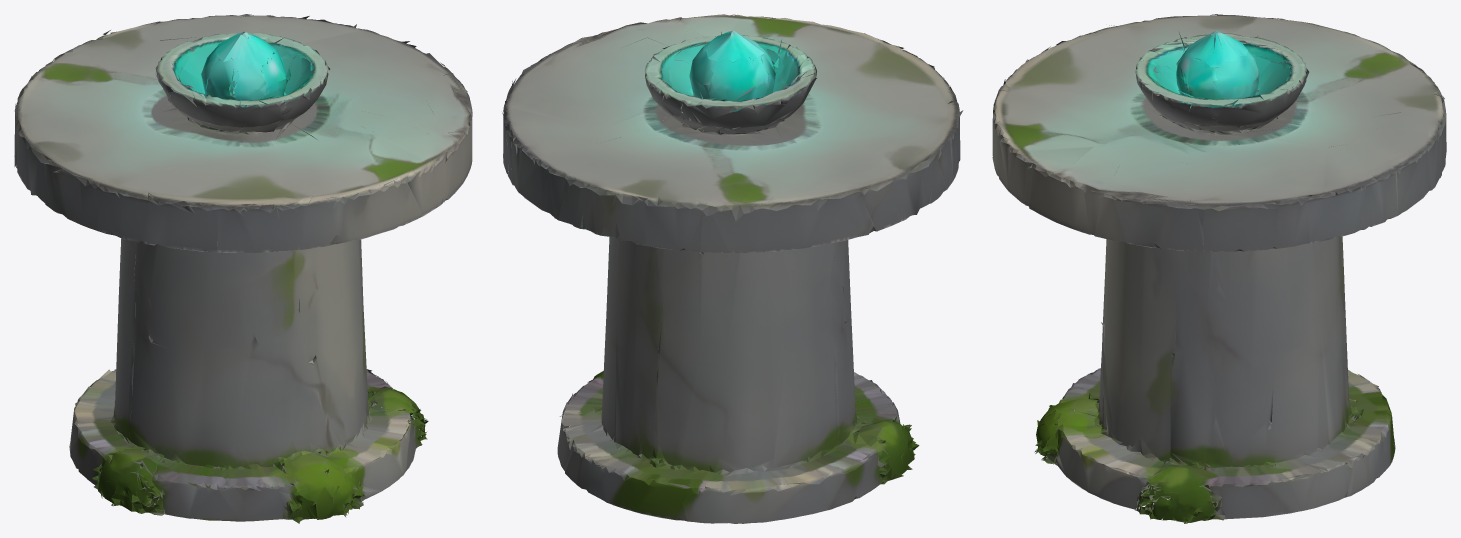
The model's file is Lab_Pedestal.glb.
3 renders of one model, left to right at view 1: azimuth 30°, elevation 25°; view 2: azimuth 150°, elevation 25°; view 3: azimuth 270°, elevation 25°, orthographic.
Parts seen in each view (by area): view 1: Lab_Pedestal; view 2: Lab_Pedestal; view 3: Lab_Pedestal.
Part boxes in pixels (left/top/right/bottom): Lab_Pedestal: left=14, top=14, right=472, bottom=523; Lab_Pedestal: left=502, top=14, right=963, bottom=523; Lab_Pedestal: left=992, top=14, right=1446, bottom=523.
Size of the model in its own units: 1.3 by 1.31 by 1.29.
1 material, 1 textured.
